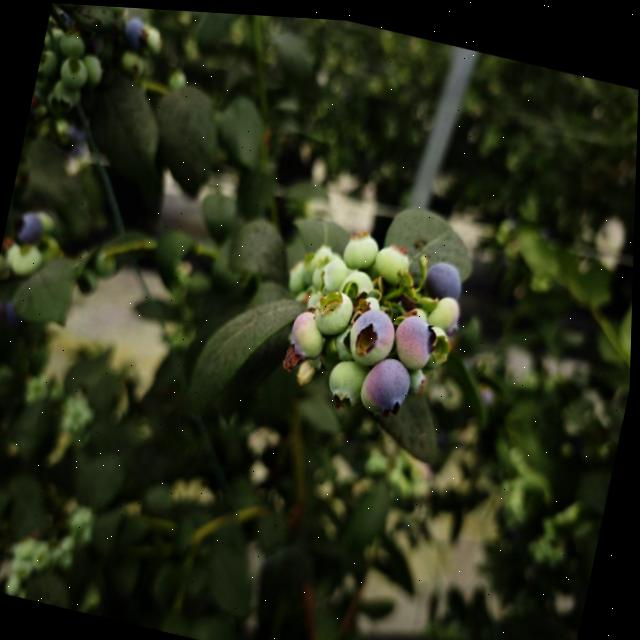RipeBlueBerry: (424, 251, 469, 299)
Semi-RipeBlueBerry: (356, 344, 418, 419), (344, 299, 403, 369), (390, 304, 445, 370)
UnripeBlueBerry: (311, 279, 358, 337)
